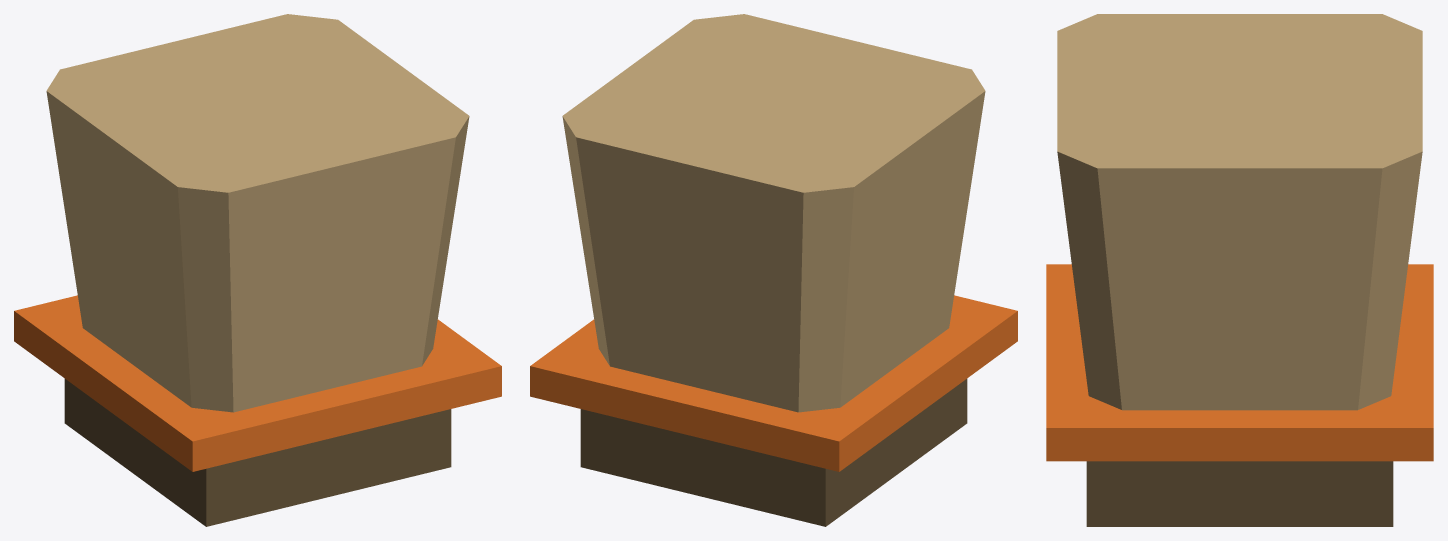
The model's file is pc_engineer_lower_arm.fbx.
3 renders of one model, left to right at view 1: azimuth 30°, elevation 25°; view 2: azimuth 150°, elevation 25°; view 3: azimuth 270°, elevation 25°, orthographic. The views are drawn at different scales.
Parts seen in each view (by area): view 1: pc_engineer_lower_arm; view 2: pc_engineer_lower_arm; view 3: pc_engineer_lower_arm.
Part boxes in pixels (left/top/right/bottom): pc_engineer_lower_arm: left=14, top=14, right=501, bottom=526; pc_engineer_lower_arm: left=530, top=14, right=1017, bottom=526; pc_engineer_lower_arm: left=1046, top=14, right=1433, bottom=526.
Bounding box in the file's own units: 106 × 112 × 106.
